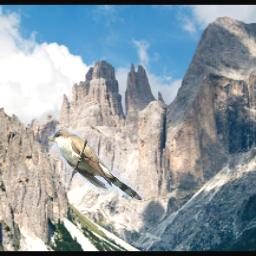Cuckoo: (48, 129, 143, 200)
